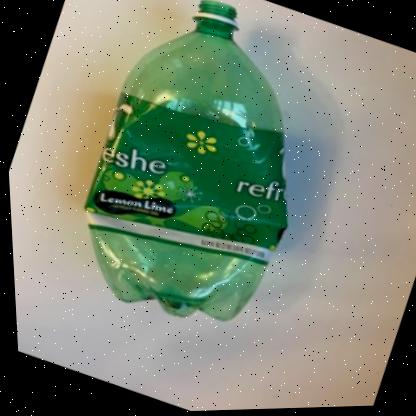Plastic: (81, 0, 285, 322)
